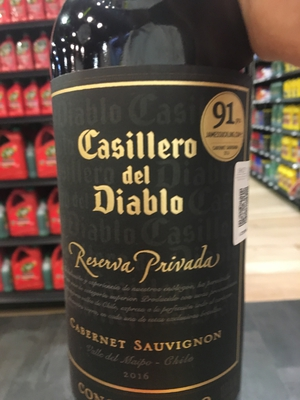casillero del diablo reserva privada cabernet sauvignon: (44, 10, 263, 400)
